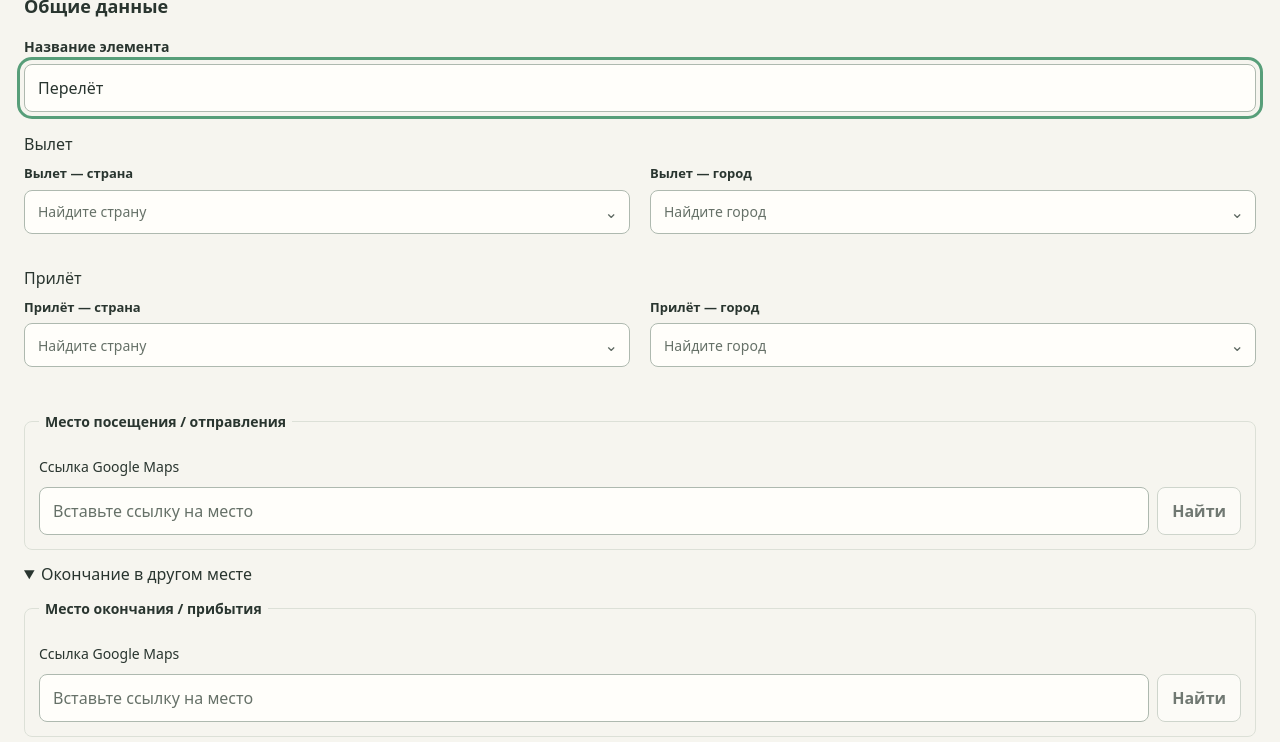
Test: legacy overnight event on the last trip day saves unrelated edits unchanged
Type "Ночной перелёт" into the field labelled "Название элемента" at (640, 88), box [24,64,1256,112]
(page scrolled)
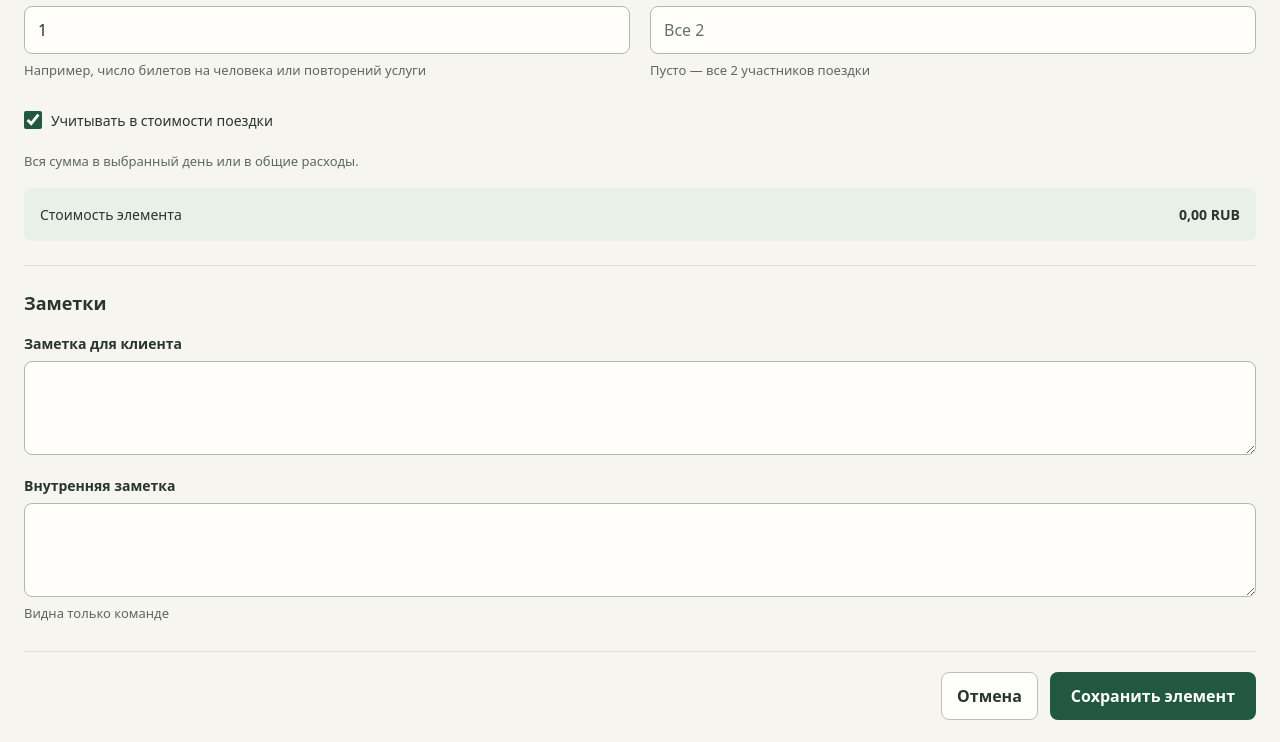
Click the button "Сохранить элемент" at (1153, 696), box [1050,672,1256,720]
(page scrolled)
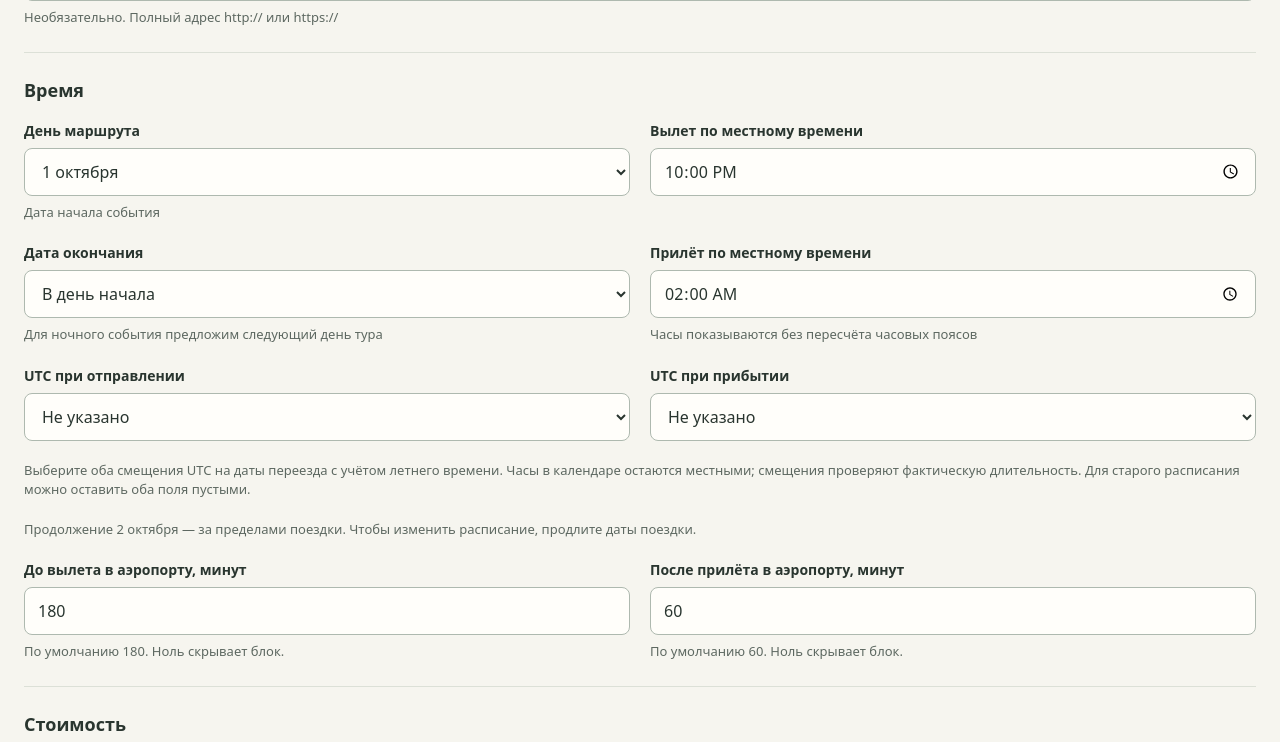
Replace the text in the time field labelled "Прилёт по местному времени" with "03:00" at (953, 294), box [650,270,1256,318]
(page scrolled)
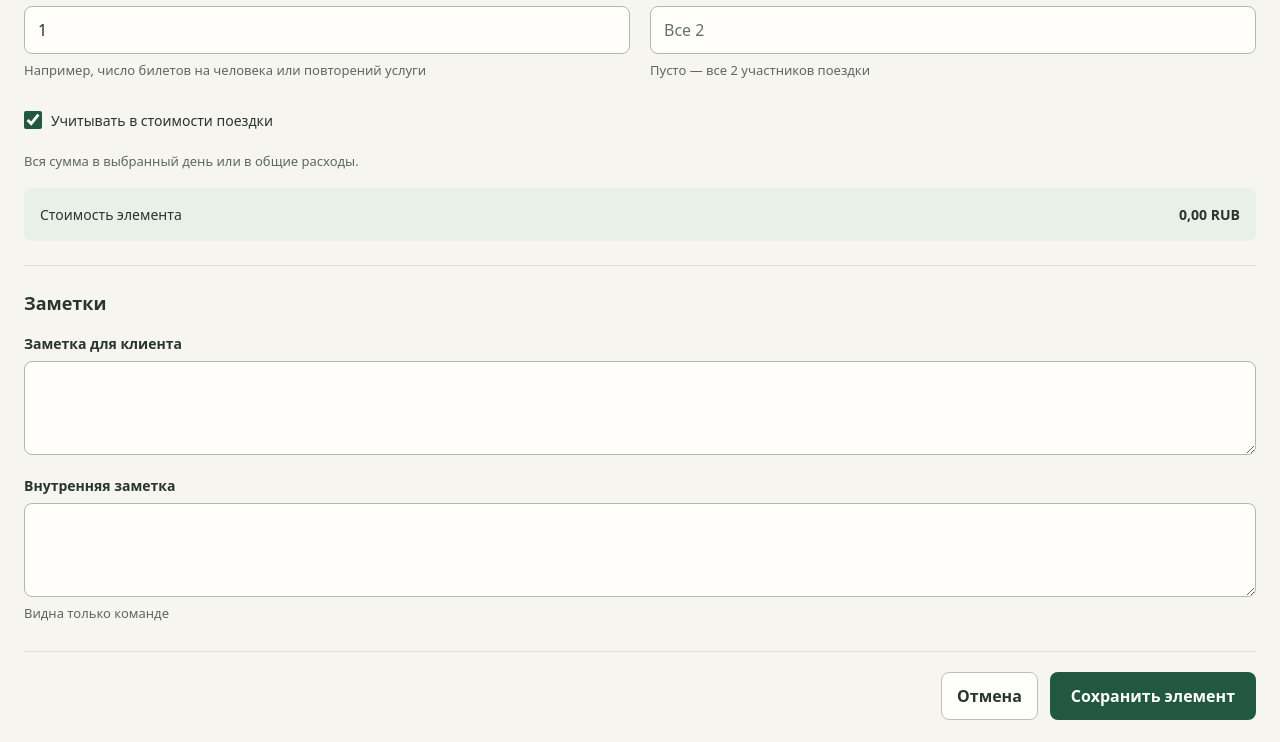
Click the button "Сохранить элемент" at (1153, 696), box [1050,672,1256,720]
(page scrolled)
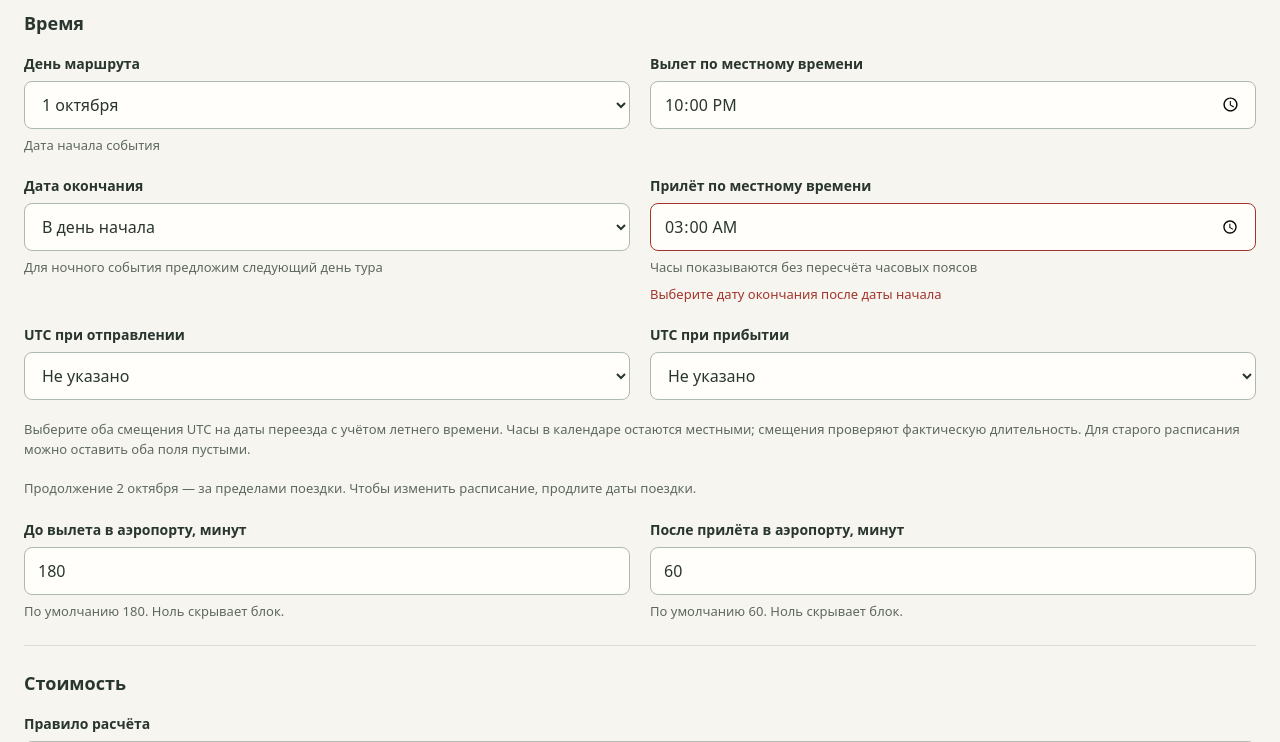
Now the text "Выберите дату окончания после даты начала" is shown, box [650,284,942,302]
